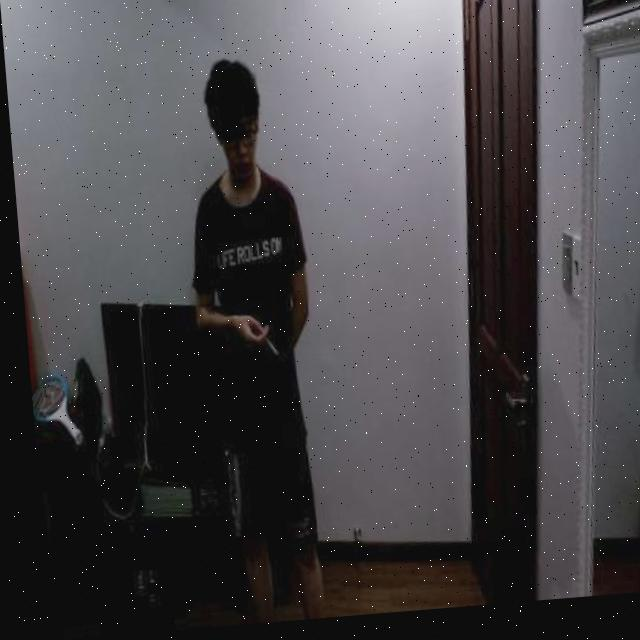cigarette: (260, 340, 273, 361)
